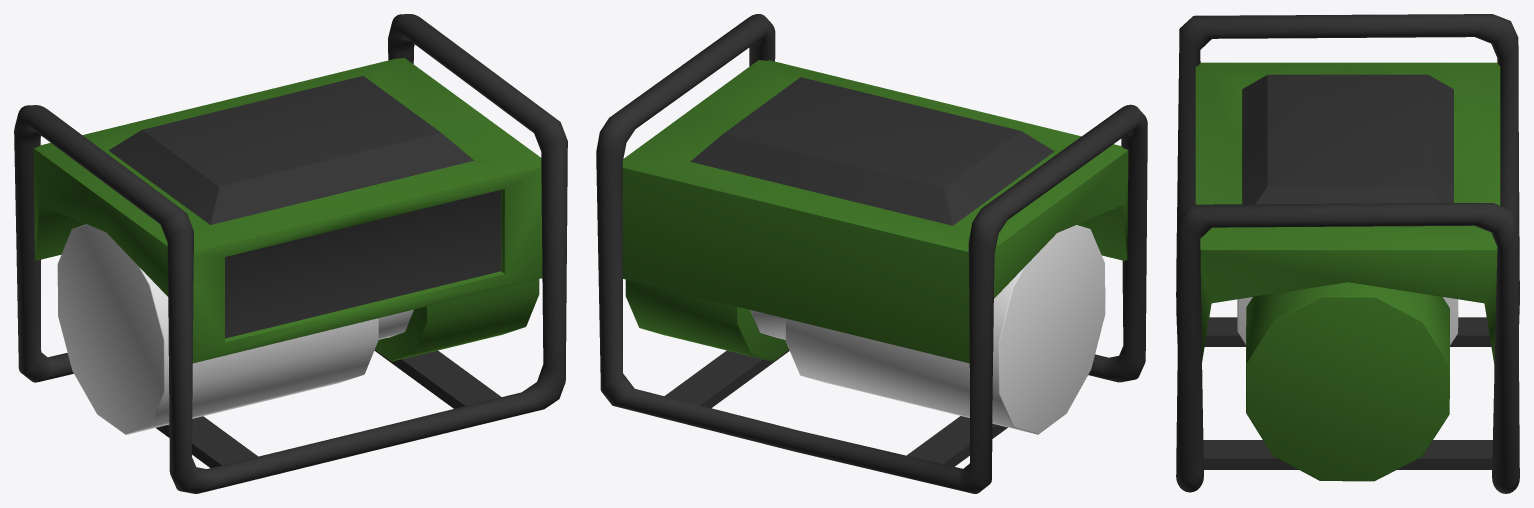
The model's file is Generator.fbx.
3 views of the same model, side by side, from view 1: azimuth 30°, elevation 25°; view 2: azimuth 150°, elevation 25°; view 3: azimuth 270°, elevation 25° (orthographic). The views are drawn at different scales.
Parts seen in each view (by area): view 1: Lid, OuterPipe, Engine, HoldingBars; view 2: Lid, OuterPipe, Engine, HoldingBars; view 3: Lid, Engine, OuterPipe, HoldingBars.
Part boxes in pixels (bbox=[...]): Lid: bbox=[33, 58, 542, 363]; OuterPipe: bbox=[14, 14, 567, 493]; Engine: bbox=[57, 224, 539, 434]; HoldingBars: bbox=[156, 350, 501, 467]; Lid: bbox=[622, 60, 1128, 363]; OuterPipe: bbox=[596, 14, 1147, 493]; Engine: bbox=[625, 225, 1105, 434]; HoldingBars: bbox=[664, 350, 1007, 466]; Lid: bbox=[1195, 62, 1500, 364]; Engine: bbox=[1237, 282, 1458, 481]; OuterPipe: bbox=[1176, 14, 1519, 493]; HoldingBars: bbox=[1203, 317, 1492, 469].
Size of the model in its own units: 316 by 214 by 228.
